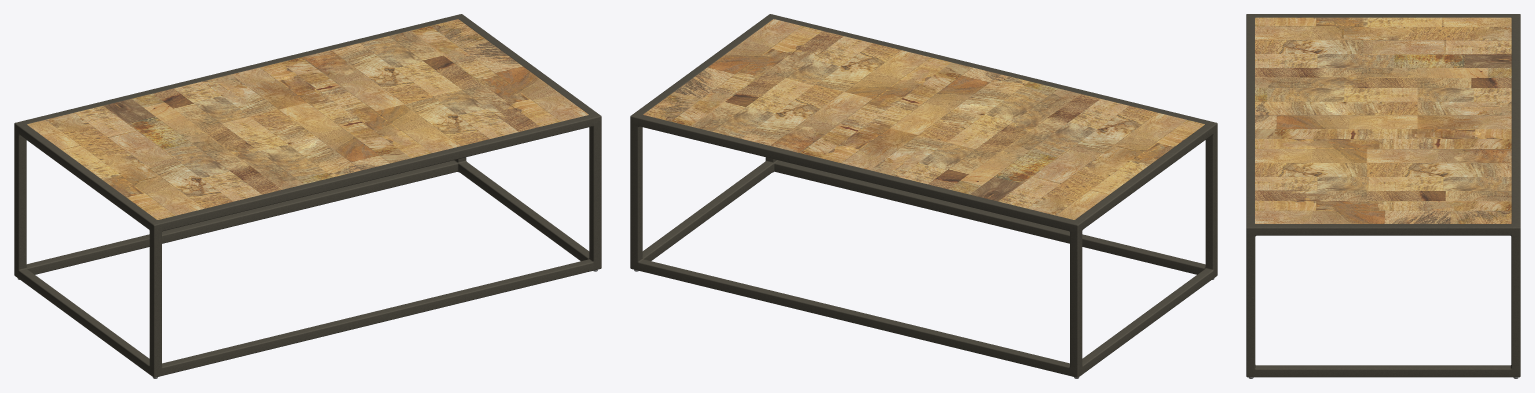
File: abo_B07QD6V6N8.glb
3 views of the same model, side by side, from view 1: azimuth 30°, elevation 25°; view 2: azimuth 150°, elevation 25°; view 3: azimuth 270°, elevation 25° (orthographic). The views are drawn at different scales.
Parts seen in each view (by area): view 1: RootNode; view 2: RootNode; view 3: RootNode.
Part boxes in pixels (x1,y1,x2,y2): RootNode: (14, 14, 601, 378); RootNode: (630, 14, 1217, 378); RootNode: (1246, 14, 1520, 378).
Size of the model in its own units: 1.2 by 0.3984 by 0.6493.
1 material, 1 textured.
